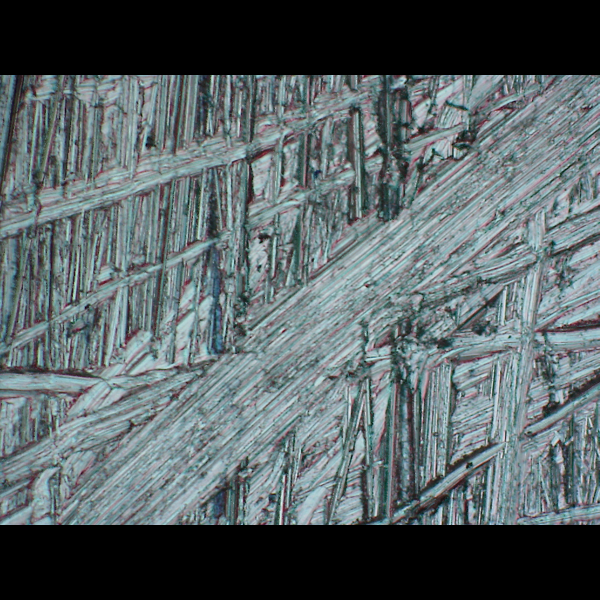d: (2, 79, 599, 524)
